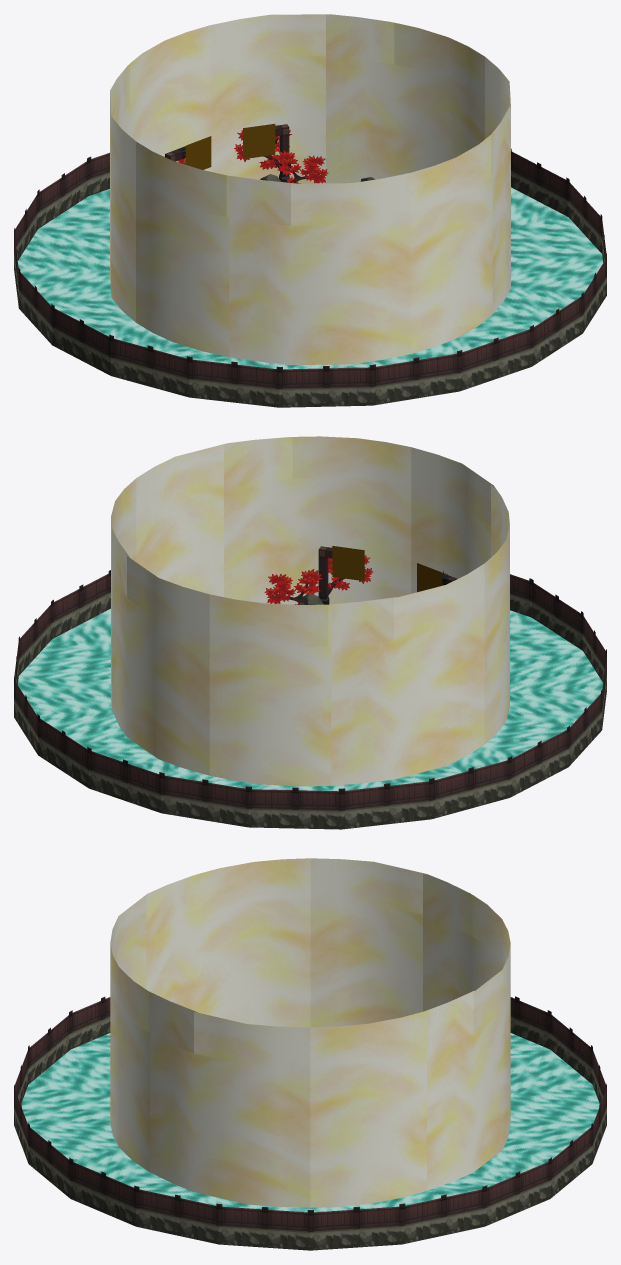
File: arena.fbx
3 views of the same model, one above another, from view 1: azimuth 30°, elevation 25°; view 2: azimuth 150°, elevation 25°; view 3: azimuth 270°, elevation 25° (orthographic).
Parts seen in each view (by area): view 1: vsn_mesh_9_mesh9, vsn_mesh_0_mesh0, vsn_mesh_7_mesh7, vsn_mesh_10_mesh10, vsn_mesh_2_mesh2, vsn_mesh_1_mesh1; view 2: vsn_mesh_9_mesh9, vsn_mesh_0_mesh0, vsn_mesh_7_mesh7, vsn_mesh_2_mesh2, vsn_mesh_10_mesh10, vsn_mesh_1_mesh1; view 3: vsn_mesh_9_mesh9, vsn_mesh_0_mesh0, vsn_mesh_7_mesh7.
Boxes of the visible parts, bbox=[...] form: vsn_mesh_9_mesh9: bbox=[110, 14, 510, 364]; vsn_mesh_0_mesh0: bbox=[14, 148, 606, 407]; vsn_mesh_7_mesh7: bbox=[17, 187, 602, 369]; vsn_mesh_10_mesh10: bbox=[185, 124, 275, 169]; vsn_mesh_2_mesh2: bbox=[164, 130, 328, 183]; vsn_mesh_1_mesh1: bbox=[165, 124, 289, 182]; vsn_mesh_9_mesh9: bbox=[111, 436, 509, 786]; vsn_mesh_0_mesh0: bbox=[14, 570, 606, 829]; vsn_mesh_7_mesh7: bbox=[17, 608, 603, 791]; vsn_mesh_2_mesh2: bbox=[264, 555, 447, 604]; vsn_mesh_10_mesh10: bbox=[332, 546, 442, 592]; vsn_mesh_1_mesh1: bbox=[318, 546, 457, 604]; vsn_mesh_9_mesh9: bbox=[110, 858, 510, 1207]; vsn_mesh_0_mesh0: bbox=[14, 996, 606, 1250]; vsn_mesh_7_mesh7: bbox=[21, 1033, 599, 1212].
Size of the model in its own units: 28.26 by 9.59 by 28.26.
